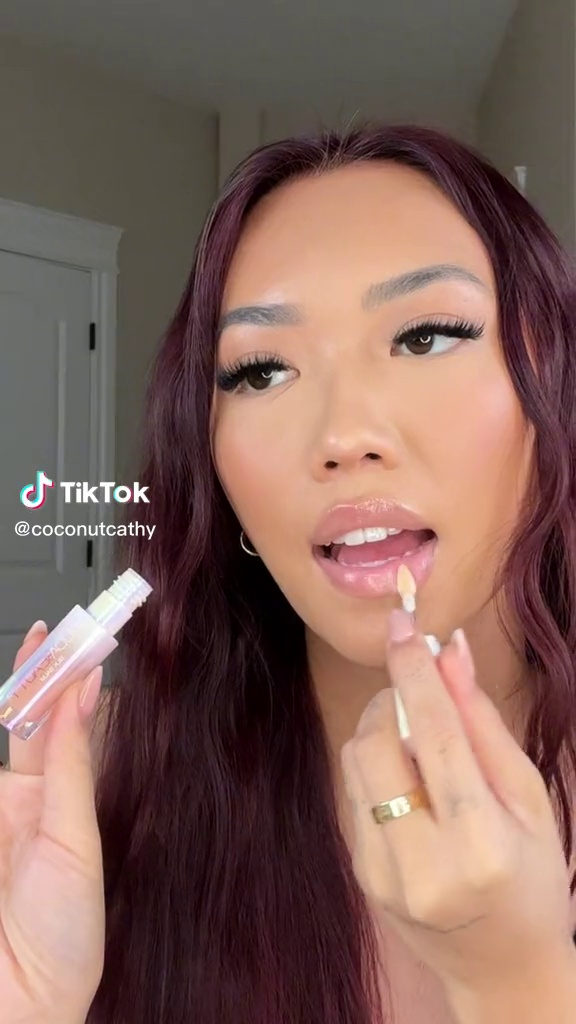train' :'yolo_data/train/images',: (1, 561, 158, 746), (376, 556, 449, 739)
